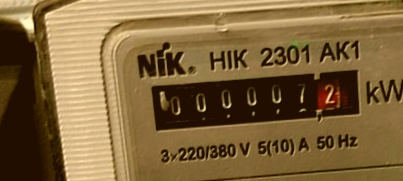0: (166, 92, 182, 117), (243, 84, 259, 108), (192, 90, 207, 113), (218, 87, 233, 110), (268, 81, 282, 105)
2: (321, 82, 336, 105)
7: (294, 80, 307, 104)
screen: (139, 59, 370, 139)
